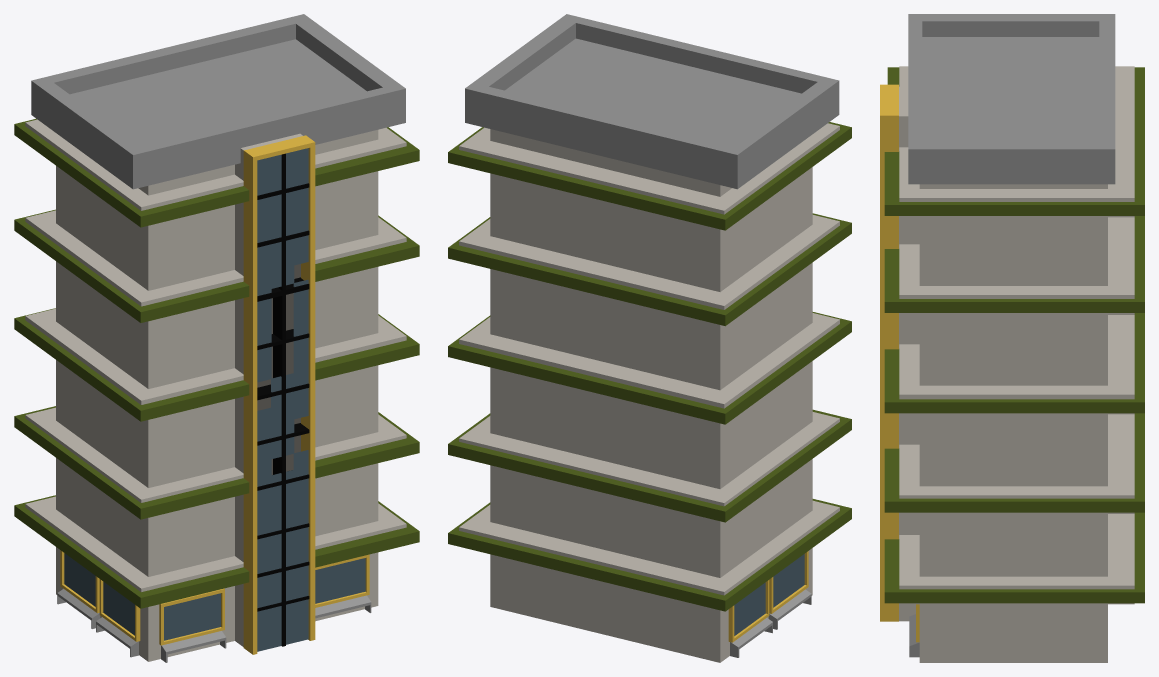
Rendered from Building2.fbx.
The picture shows the model from 3 angles, left to right: view 1: azimuth 30°, elevation 25°; view 2: azimuth 150°, elevation 25°; view 3: azimuth 270°, elevation 25°; orthographic projection.
Parts seen in each view (by area): view 1: Cube.011; view 2: Cube.011; view 3: Cube.011.
Boxes of the visible parts, <box> form: Cube.011: <box>14,14,419,662</box>; Cube.011: <box>448,14,851,662</box>; Cube.011: <box>880,14,1144,662</box>.
Size of the model in its own units: 3453 by 6140 by 2808.
